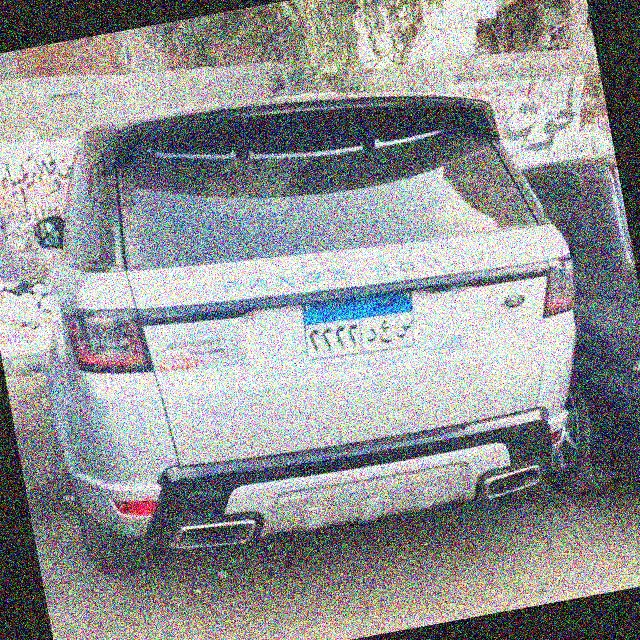License Plate: (296, 280, 423, 367)
